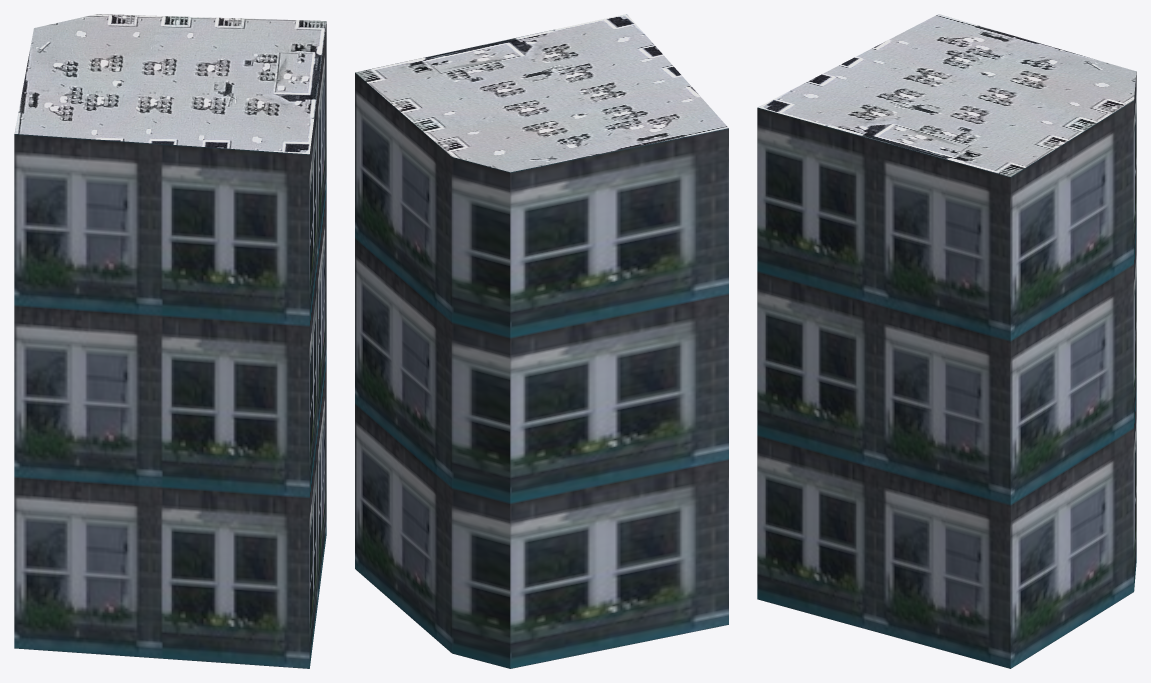
File: ResTex__3376.fbx
3 renders of one model, left to right at view 1: azimuth 30°, elevation 25°; view 2: azimuth 150°, elevation 25°; view 3: azimuth 270°, elevation 25°, orthographic. The views are drawn at different scales.
Visible parts, largest first — view 1: CityEngineMaterial_11_m, CityEngineMaterial_2_m; view 2: CityEngineMaterial_11_m, CityEngineMaterial_2_m; view 3: CityEngineMaterial_11_m, CityEngineMaterial_2_m.
Part boxes in pixels (x1,y1,x2,y2): CityEngineMaterial_11_m: [14, 21, 326, 668]; CityEngineMaterial_2_m: [14, 14, 326, 154]; CityEngineMaterial_11_m: [355, 72, 728, 668]; CityEngineMaterial_2_m: [355, 14, 728, 172]; CityEngineMaterial_11_m: [757, 71, 1136, 668]; CityEngineMaterial_2_m: [758, 14, 1136, 176].
Size of the model in its own units: 6.4 by 9 by 6.28.
Materials: 2 (2 with a texture image).
